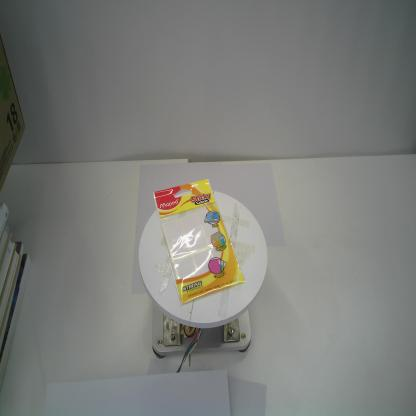Stationery: (150, 175, 247, 308)
